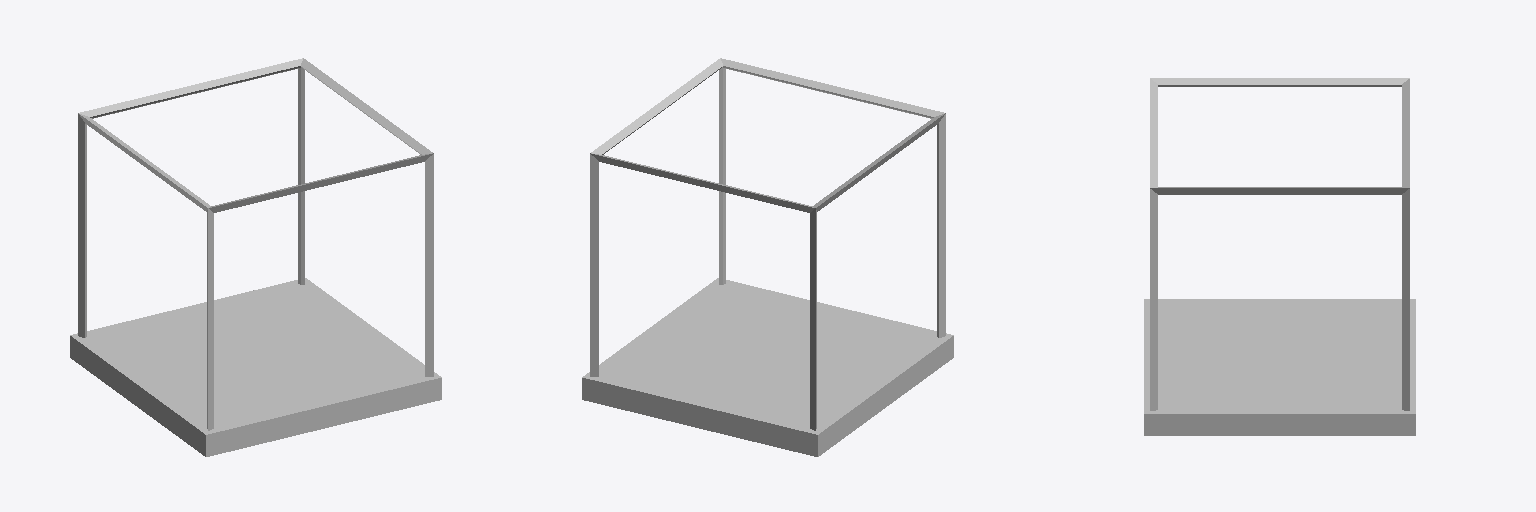
File: zone.obj
3 renders of one model, left to right at view 1: azimuth 30°, elevation 25°; view 2: azimuth 150°, elevation 25°; view 3: azimuth 270°, elevation 25°, orthographic.
Visible parts, largest first — view 1: Cube.001, Cube; view 2: Cube.001, Cube; view 3: Cube.001, Cube.
Part boxes in pixels (left/top/right/bottom): Cube.001: left=70, top=278, right=441, bottom=456; Cube: left=78, top=58, right=433, bottom=430; Cube.001: left=582, top=278, right=953, bottom=456; Cube: left=590, top=58, right=945, bottom=430; Cube.001: left=1144, top=299, right=1415, bottom=435; Cube: left=1150, top=78, right=1409, bottom=410.
Size of the model in its own units: 12.58 by 12.52 by 12.58.